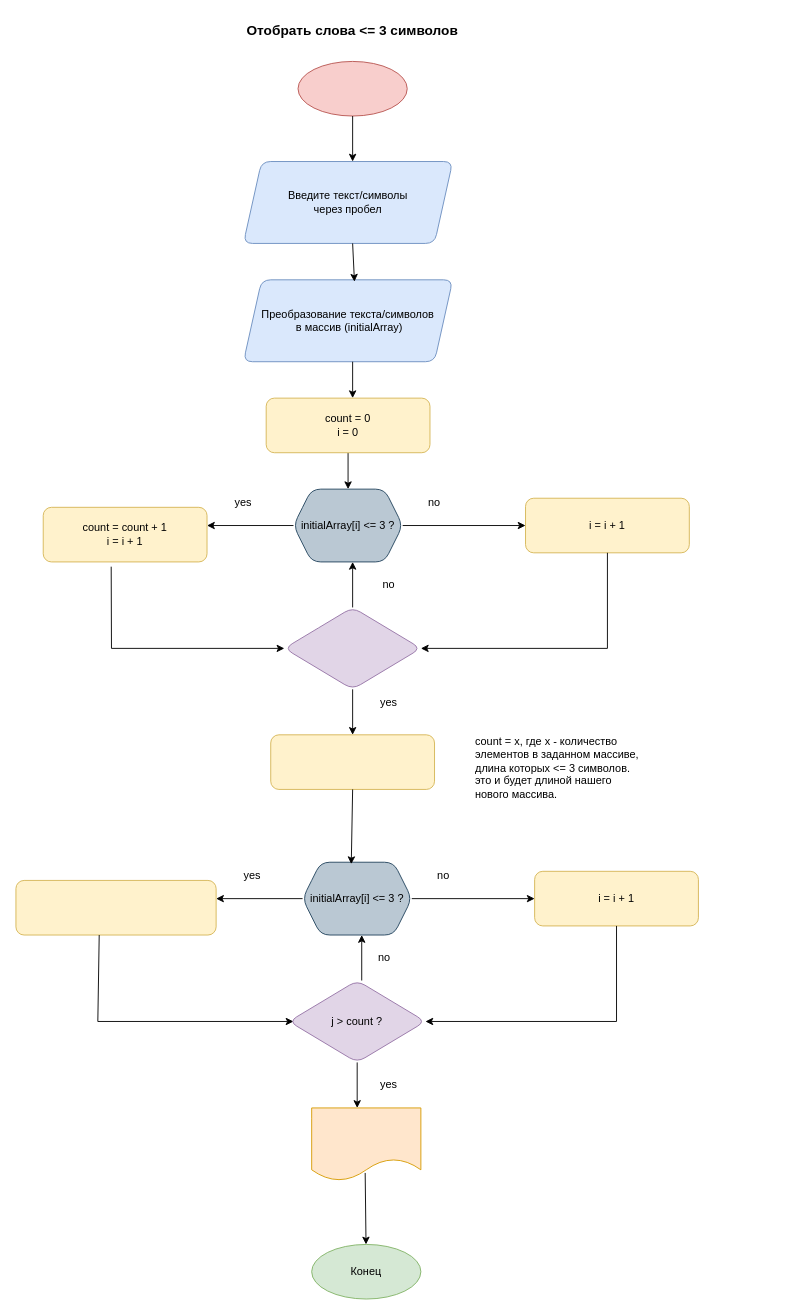
Some shapes in this 805 by 1315 pixel diagram are drawn without their labels. The shapes that lost their labels are listed below. From the top down, each one's centre as x and y in pixels, then its label:
At [352,88]: "Старт".
At [352,648]: "i > initialArray.length ?".
At [352,761]: "i = 0 j = 0 count = x finalArray[]".
At [115,907]: "finalArray = finalArray + initialArray[i] j = j + 1 i = i + 1".
At [366,1144]: "Выводим на печать finalArray".
